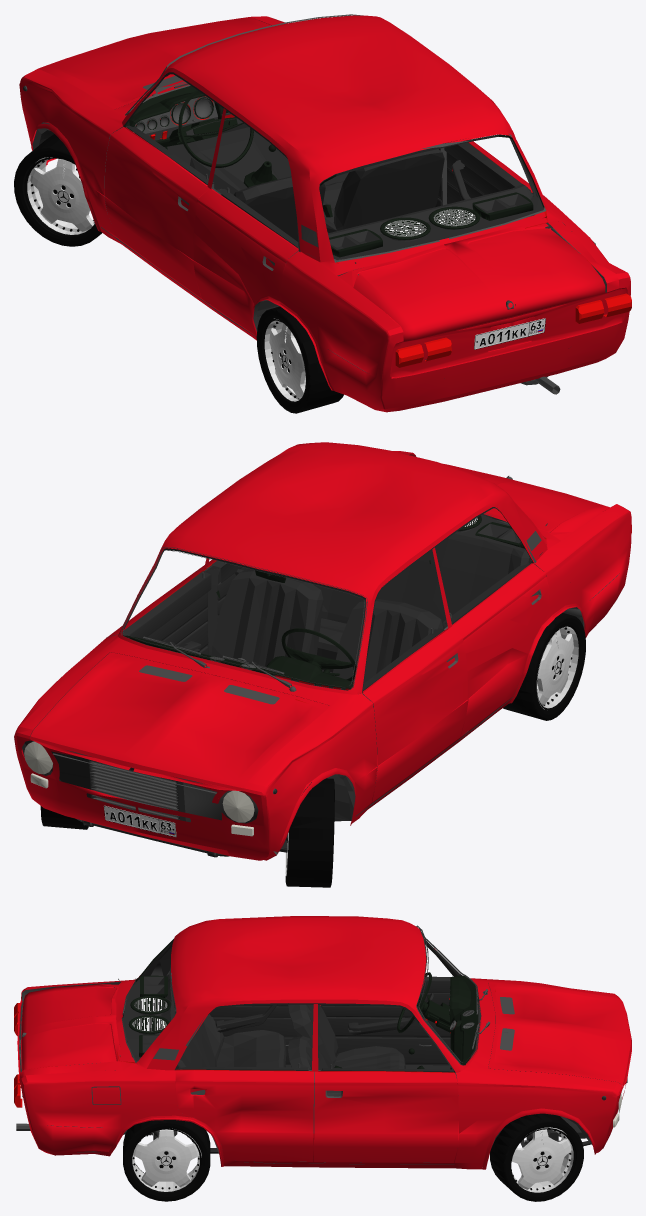
File: vaz.fbx
3 renders of one model, top to bottom at view 1: azimuth 30°, elevation 25°; view 2: azimuth 150°, elevation 25°; view 3: azimuth 270°, elevation 25°, orthographic. The views are drawn at different scales.
Visible parts, largest first — view 1: carVaz; view 2: carVaz; view 3: carVaz.
Part boxes in pixels (box(x1,y1,x2,y2)): carVaz: box(14, 14, 631, 413); carVaz: box(14, 442, 631, 887); carVaz: box(14, 916, 631, 1201).
Size of the model in its own units: 7707 by 5699 by 16106.
Materials: 6 (1 with a texture image).
